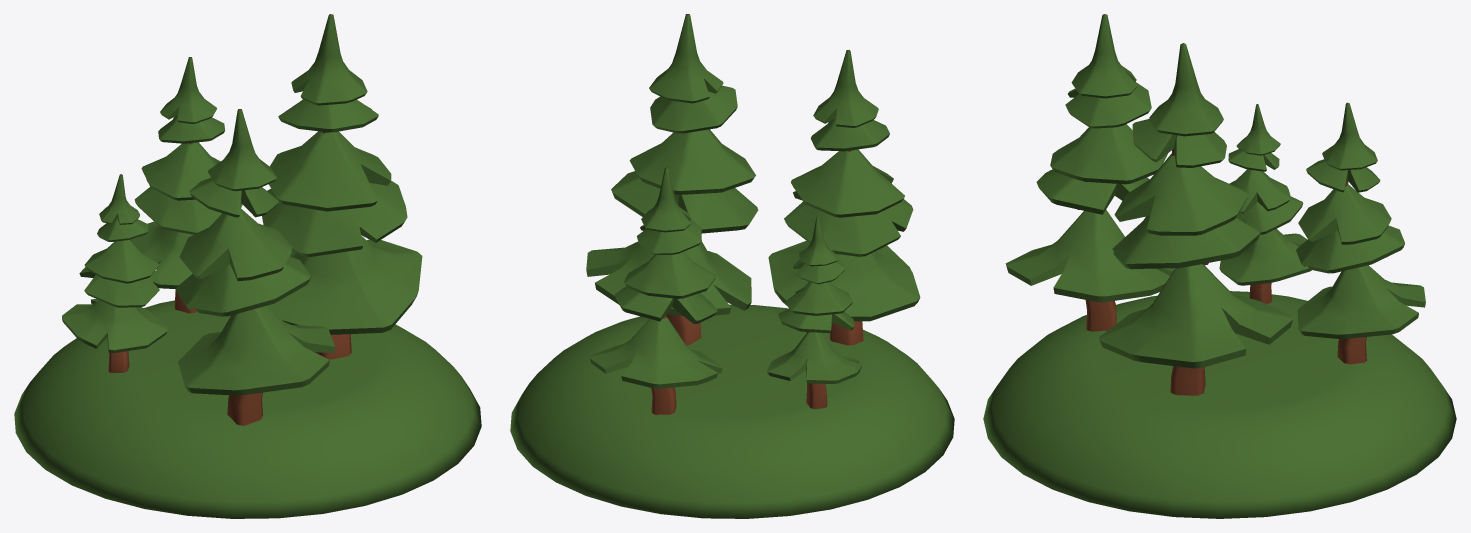
Rendered from Island3.fbx.
The picture shows the model from 3 angles, left to right: view 1: azimuth 30°, elevation 25°; view 2: azimuth 150°, elevation 25°; view 3: azimuth 270°, elevation 25°; orthographic projection. The views are drawn at different scales.
Visible parts, largest first — view 1: tree_pine_SC_04.003; view 2: tree_pine_SC_04.003; view 3: tree_pine_SC_04.003.
Part boxes in pixels (x1=…): tree_pine_SC_04.003: x1=14, y1=14, x2=481, y2=518; tree_pine_SC_04.003: x1=510, y1=14, x2=954, y2=518; tree_pine_SC_04.003: x1=983, y1=14, x2=1456, y2=518.
Bounding box in the file's own units: 31.67 × 30.04 × 31.67.
